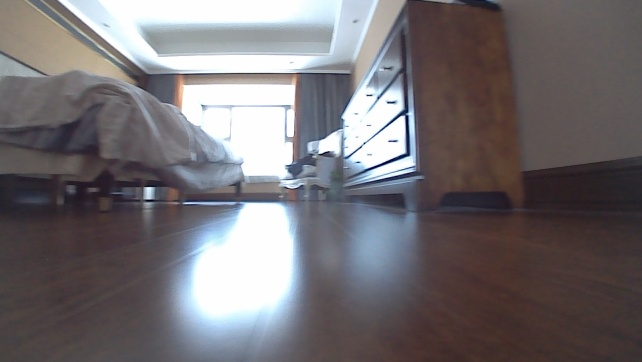bed: (0, 49, 246, 207)
cabinet: (339, 0, 528, 215)
sofa: (271, 127, 344, 203)
